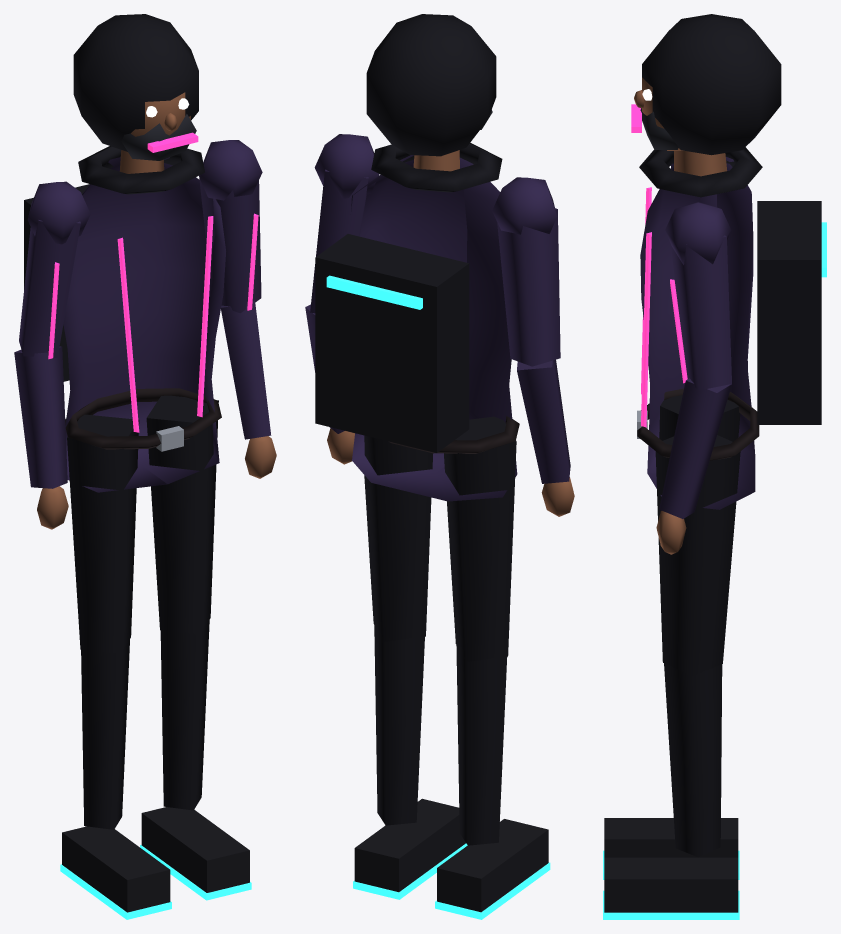
The model's file is person_hoodie_lo.glb.
3 views of the same model, side by side, from view 1: azimuth 30°, elevation 25°; view 2: azimuth 150°, elevation 25°; view 3: azimuth 270°, elevation 25° (orthographic). The views are drawn at different scales.
Parts seen in each view (by area): view 1: cloth_b (×5), cloth_a (×3), shoe (×2), skin (×3), leather, neon_magenta, neon_cyan (×2), metal_dark, metal_light; view 2: cloth_b (×5), cloth_a (×3), shoe (×2), neon_cyan (×3), skin (×3), leather; view 3: cloth_b (×4), cloth_a (×2), shoe (×2), skin (×2), neon_magenta (×2), leather, neon_cyan, metal_dark.
Part boxes in pixels (left/top/right/bottom): cloth_b (×5): left=24, top=14, right=218, bottom=829; cloth_a (×3): left=14, top=140, right=271, bottom=492; shoe (×2): left=62, top=807, right=249, bottom=912; skin (×3): left=37, top=92, right=276, bottom=529; leather: left=65, top=388, right=221, bottom=449; neon_magenta: left=117, top=132, right=213, bottom=432; neon_cyan (×2): left=60, top=845, right=251, bottom=919; metal_dark: left=121, top=114, right=196, bottom=160; metal_light: left=156, top=426, right=183, bottom=451; cloth_b (×5): left=315, top=14, right=516, bottom=845; cloth_a (×3): left=305, top=134, right=570, bottom=501; shoe (×2): left=354, top=798, right=548, bottom=912; neon_cyan (×3): left=326, top=275, right=550, bottom=919; skin (×3): left=327, top=150, right=574, bottom=516; leather: left=388, top=416, right=519, bottom=453; cloth_b (×4): left=639, top=14, right=821, bottom=857; cloth_a (×2): left=640, top=157, right=755, bottom=518; shoe (×2): left=604, top=818, right=738, bottom=912; skin (×2): left=634, top=77, right=727, bottom=554; neon_magenta (×2): left=631, top=104, right=687, bottom=427; leather: left=637, top=388, right=759, bottom=460; neon_cyan: left=603, top=890, right=739, bottom=919; metal_dark: left=640, top=108, right=678, bottom=149.
Bounding box in the file's own units: 0.529 × 1.79 × 0.4175.
